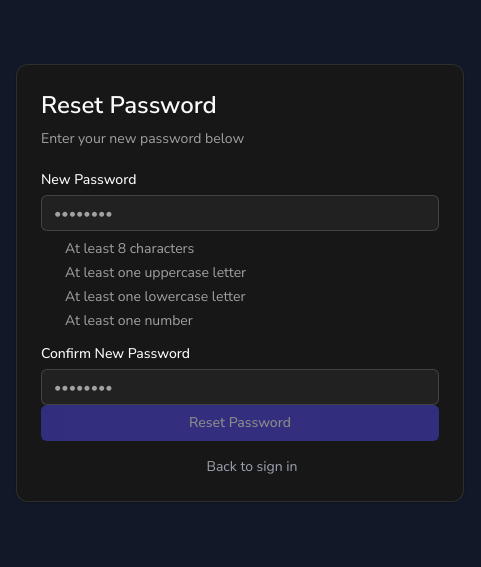
Test case: ResetPasswordPage › shows error for expired token from API
Step 1. Type "ValidPass1" into the password field labelled "New Password" → coordinates (240, 213), box [41,195,439,231]
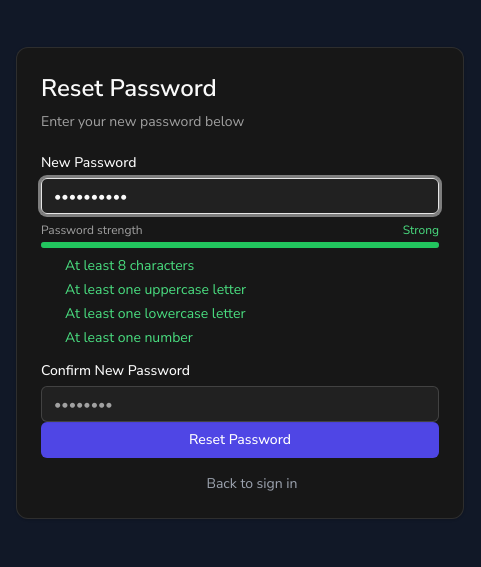
Step 2. Type "ValidPass1" into the password field labelled "Confirm New Password" → coordinates (240, 404), box [41,386,439,422]
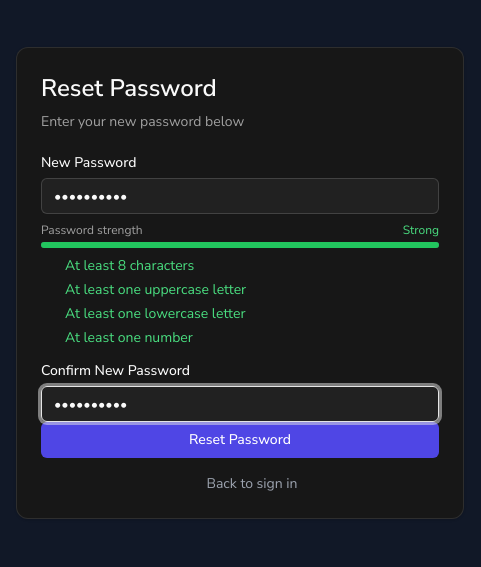
Step 3. Click the button "Reset Password" → coordinates (240, 440), box [41,422,439,458]
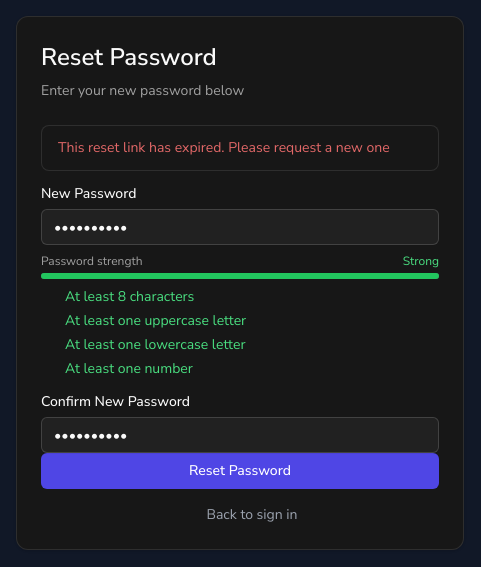
Result: the text "This reset link has expired. Please request a new one" is shown at [58,138,422,158]
